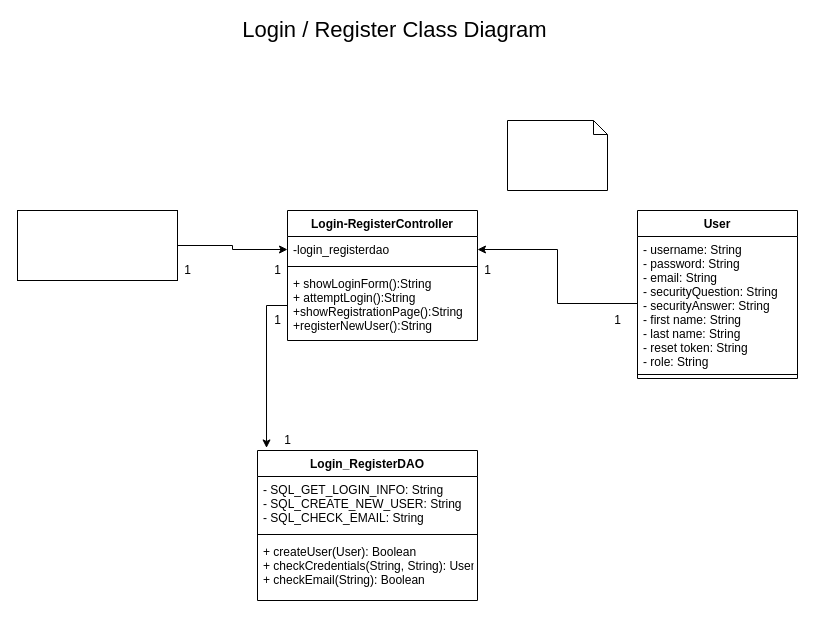
Image size: 815x620. Some labels were removed from this diagram. Each missing label, with the centre of its shape:
"Assumption that there must be one user" goes at (x=557, y=155).
"Login - username: String - password: String" goes at (x=97, y=245).
